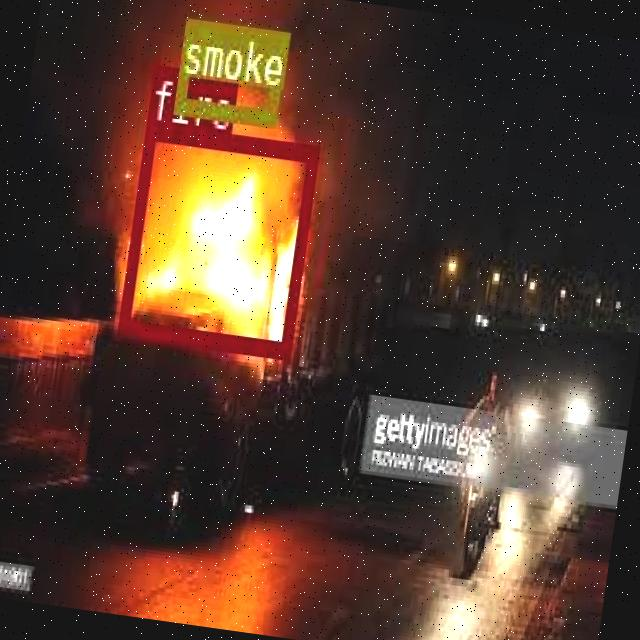fire: (118, 119, 318, 357)
smoke: (174, 17, 286, 122)
